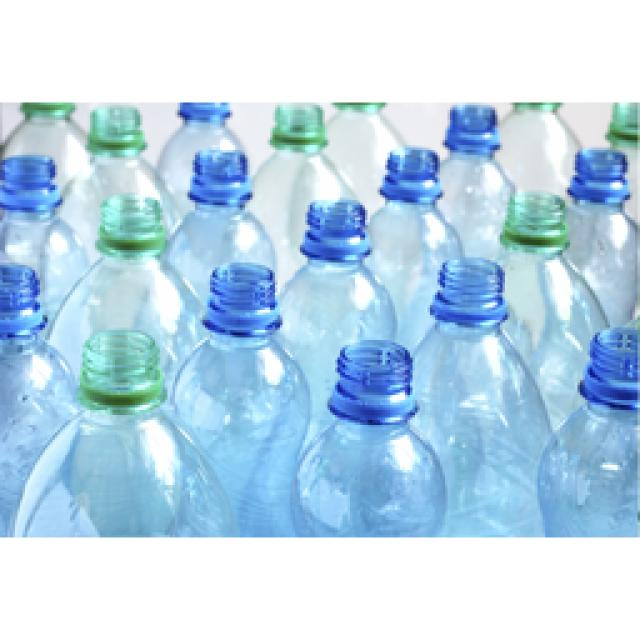plastic_water_bottles: (47, 326, 185, 526), (304, 335, 434, 523), (185, 250, 290, 468), (541, 318, 640, 534), (418, 253, 527, 360), (78, 185, 172, 303), (290, 183, 387, 295)
